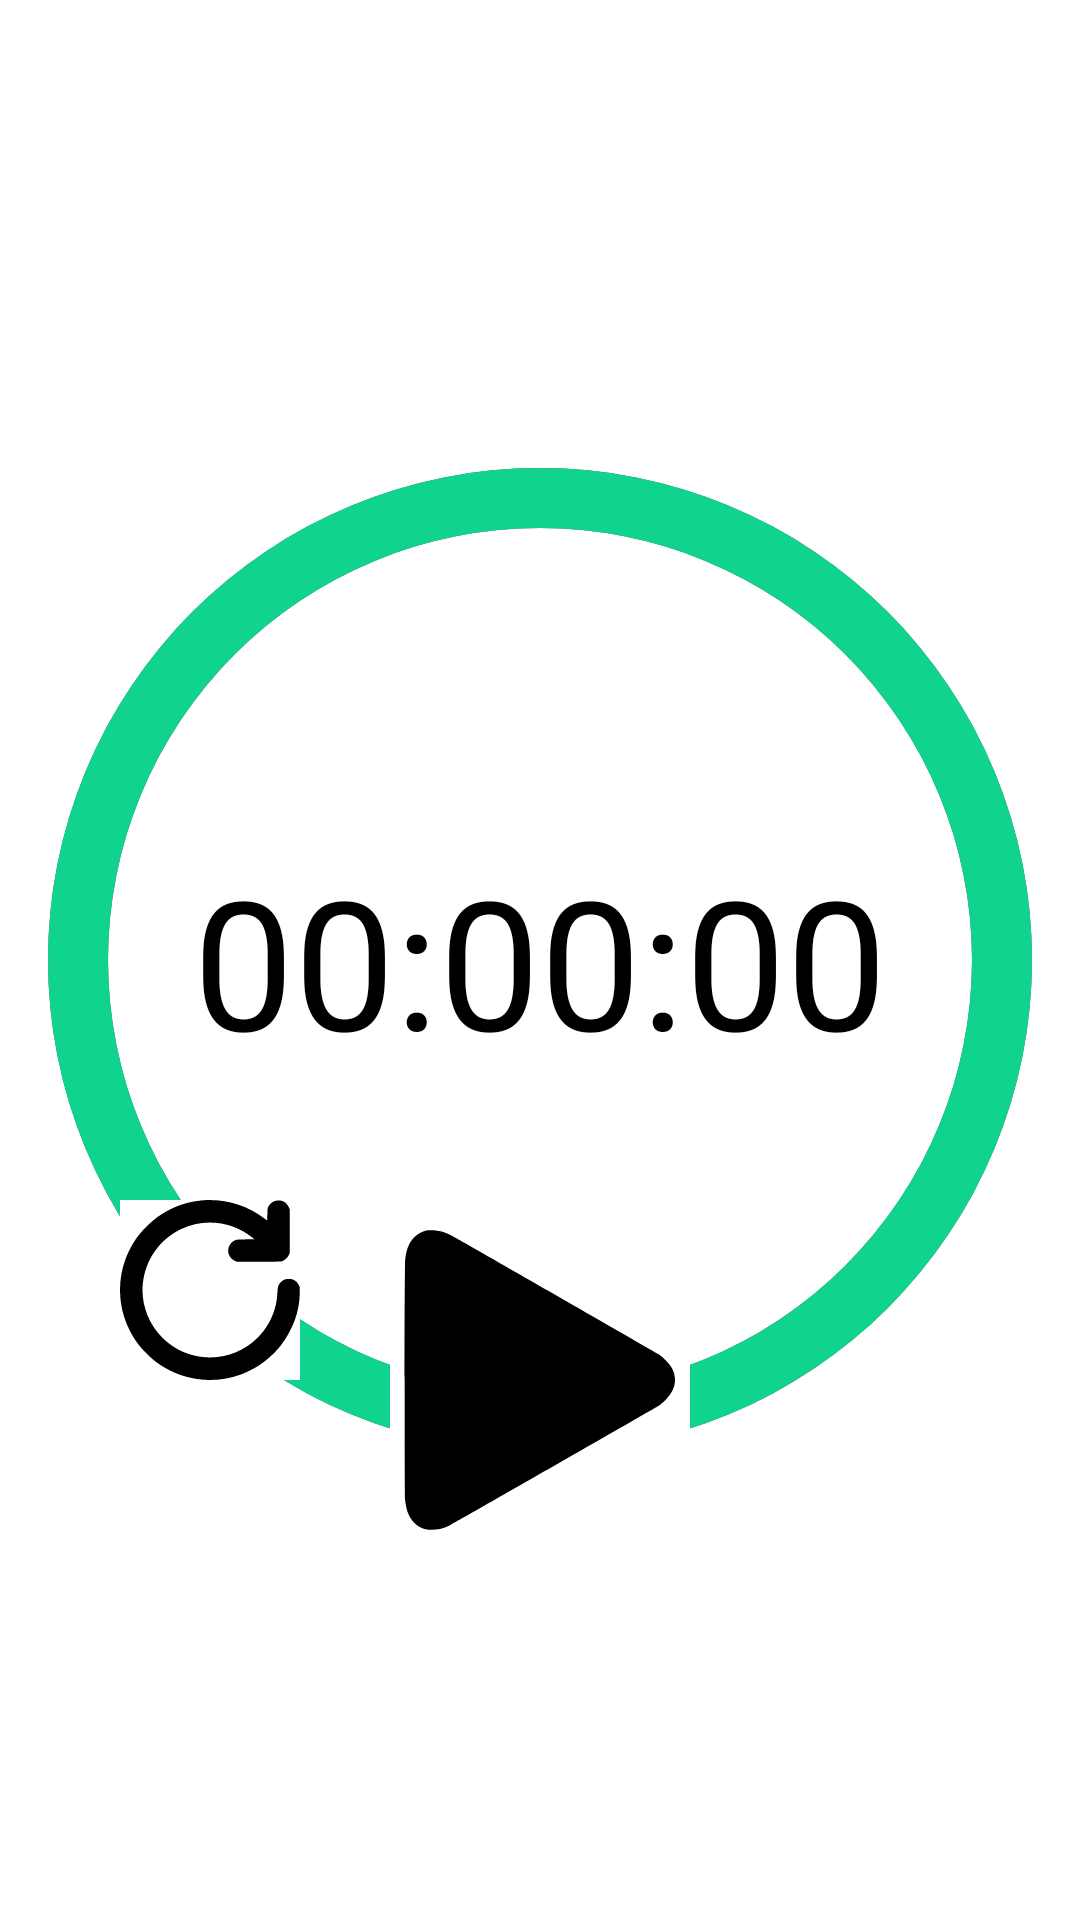

Where to tap for icons on this 1080*1920 app screen, as (x=x, y=y):
play: (x=539, y=1380)
reiniciar: (x=210, y=1290)
